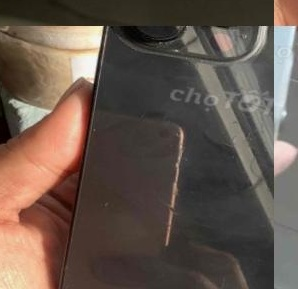scratch: (111, 26, 274, 83)
